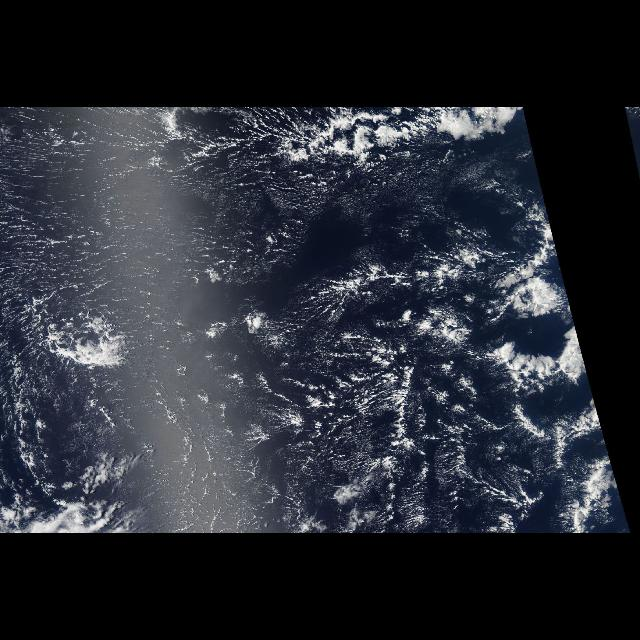Fish: (426, 233, 622, 501), (3, 115, 165, 313)
Gravel: (120, 300, 328, 526), (6, 113, 268, 291)
Sugar: (0, 107, 412, 487)
